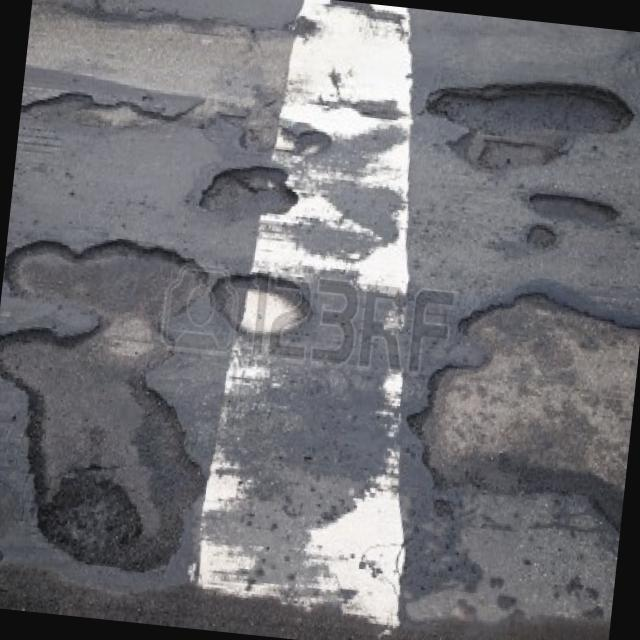bad-road: (0, 226, 229, 581), (393, 277, 640, 540), (416, 64, 639, 187), (20, 82, 241, 146), (208, 267, 318, 342), (196, 156, 302, 226), (530, 186, 622, 232), (523, 220, 558, 252)
